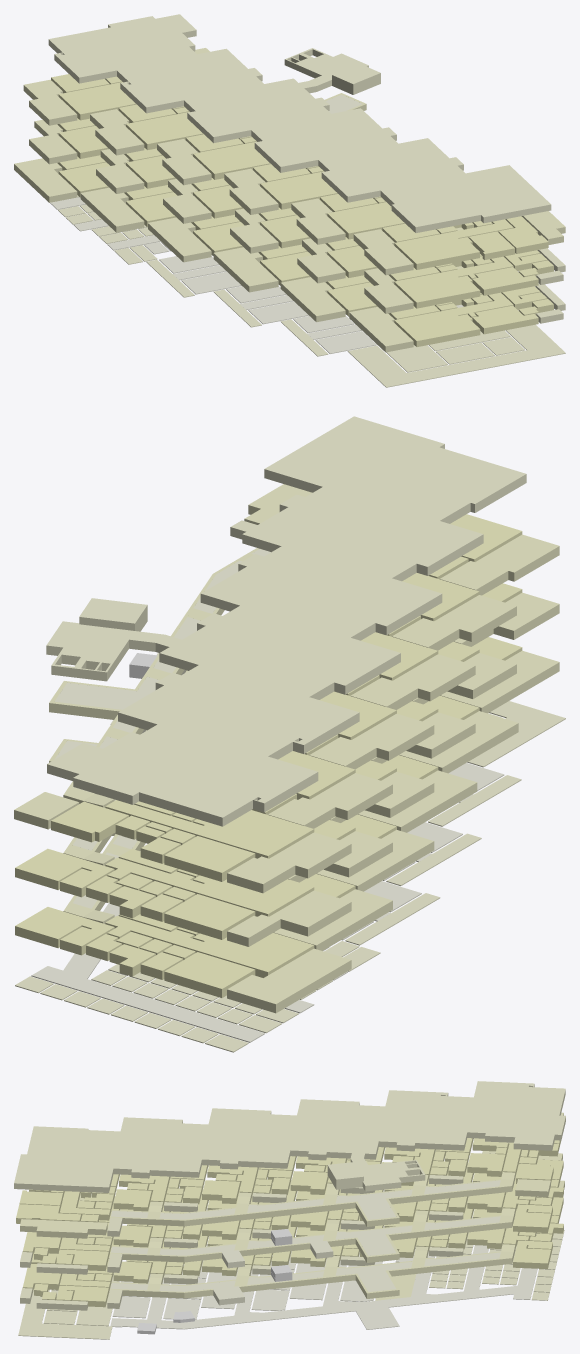
The model's file is slabs.glb.
3 views of the same model, one above another, from view 1: azimuth 30°, elevation 25°; view 2: azimuth 150°, elevation 25°; view 3: azimuth 270°, elevation 25° (orthographic). The views are drawn at different scales.
Visible parts, largest first — view 1: 0EzbCldgzEMxH7n$Nr_GPc, 3sz1TIQBb0IOFUSFt$Ktmp, 3sz1TIQBb0IOFUSFt$LRaO, 1hRP19hb56Rf3BsZQSkctC; view 2: 0EzbCldgzEMxH7n$Nr_GPc, 3sz1TIQBb0IOFUSFt$LRaO, 3sz1TIQBb0IOFUSFt$Ktmp, 1hRP19hb56Rf3BsZQSkctC, 3TAhSgyyn57QA_$HTx0iQc; view 3: 0EzbCldgzEMxH7n$Nr_GPc, 3sz1TIQBb0IOFUSFt$Ktmp, 3sz1TIQBb0IOFUSFt$LRaO, 1hRP19hb56Rf3BsZQSkctC, 3TAhSgyyn57QA_$HTx0iQc, 2YAa$W8tT2Dx1Bc6_UahQQ.
Part boxes in pixels (left/top/right/bottom): 0EzbCldgzEMxH7n$Nr_GPc: left=48, top=14, right=565, bottom=387; 3sz1TIQBb0IOFUSFt$Ktmp: left=51, top=74, right=553, bottom=346; 3sz1TIQBb0IOFUSFt$LRaO: left=14, top=48, right=565, bottom=352; 1hRP19hb56Rf3BsZQSkctC: left=50, top=197, right=463, bottom=353; 0EzbCldgzEMxH7n$Nr_GPc: left=15, top=416, right=565, bottom=1052; 3sz1TIQBb0IOFUSFt$LRaO: left=14, top=484, right=559, bottom=1013; 3sz1TIQBb0IOFUSFt$Ktmp: left=15, top=514, right=522, bottom=997; 1hRP19hb56Rf3BsZQSkctC: left=31, top=763, right=504, bottom=1042; 3TAhSgyyn57QA_$HTx0iQc: left=54, top=549, right=270, bottom=908; 0EzbCldgzEMxH7n$Nr_GPc: left=14, top=1081, right=565, bottom=1339; 3sz1TIQBb0IOFUSFt$Ktmp: left=16, top=1138, right=563, bottom=1307; 3sz1TIQBb0IOFUSFt$LRaO: left=20, top=1112, right=564, bottom=1300; 1hRP19hb56Rf3BsZQSkctC: left=110, top=1234, right=537, bottom=1329; 3TAhSgyyn57QA_$HTx0iQc: left=110, top=1180, right=500, bottom=1305; 2YAa$W8tT2Dx1Bc6_UahQQ: left=137, top=1229, right=292, bottom=1334.
Size of the model in its own units: 27.49 by 14.93 by 49.93.
